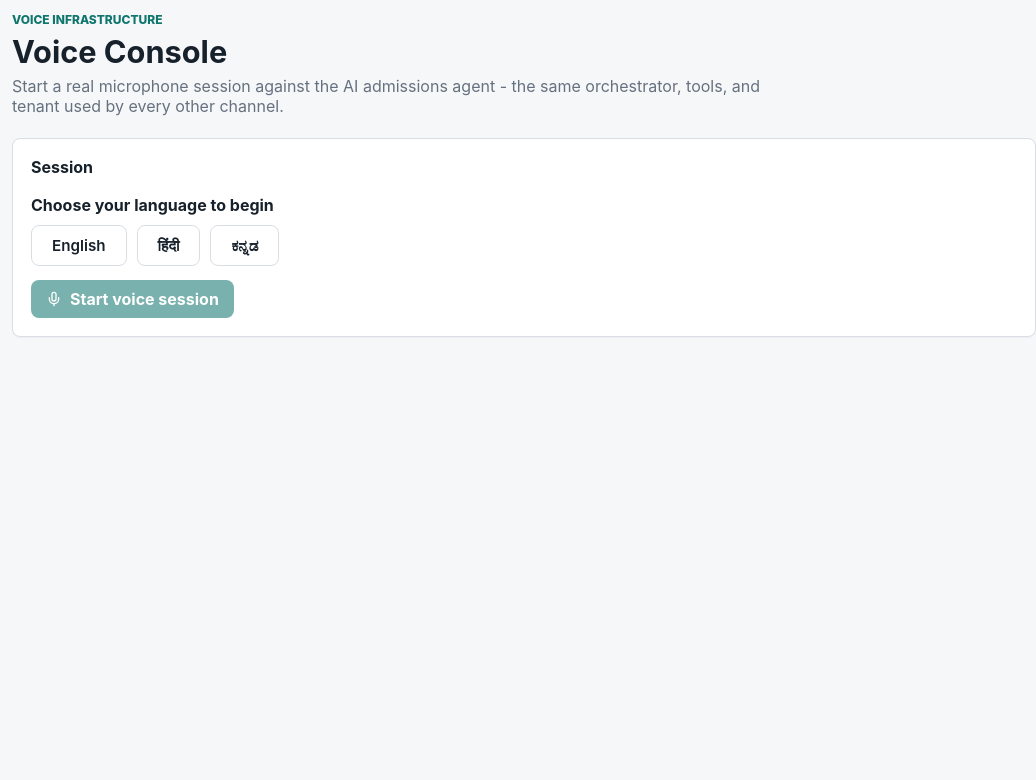
VoiceConsole - mock vs live labeling › labels a mock-provider session as MOCK
The image size is (1036, 780).
Click the radio button labelled "English" at (79, 246), box [31,225,127,266]
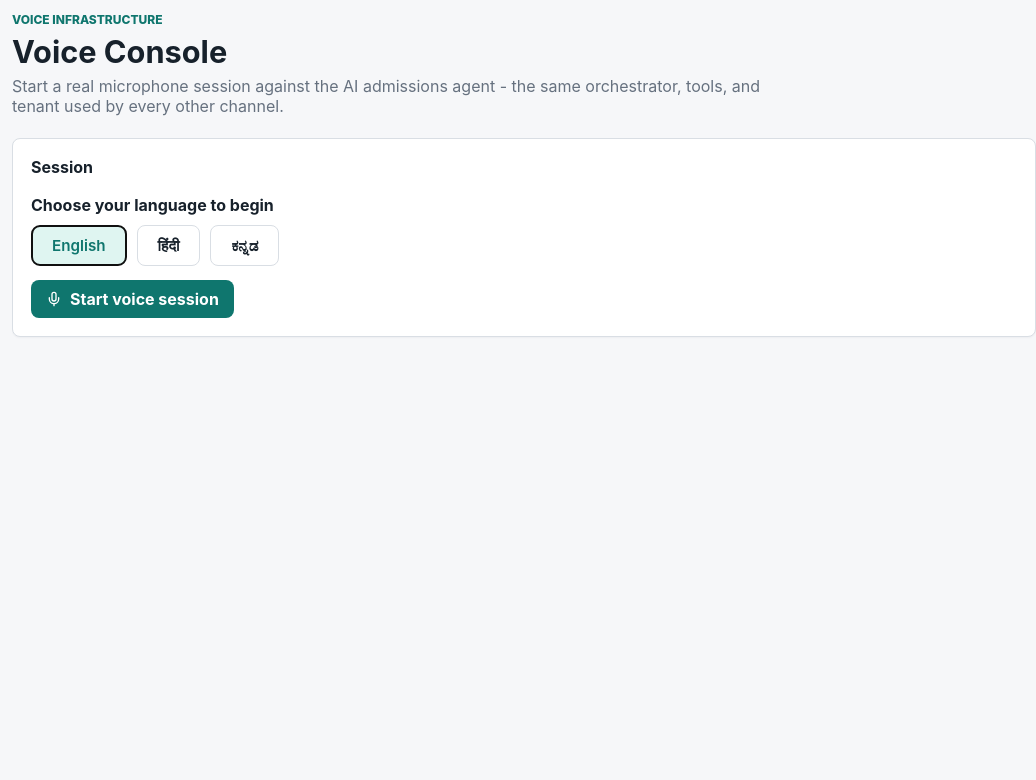
Check: the button "Start voice session" is enabled
Click the button "Start voice session" at (132, 299), box [31,280,234,318]
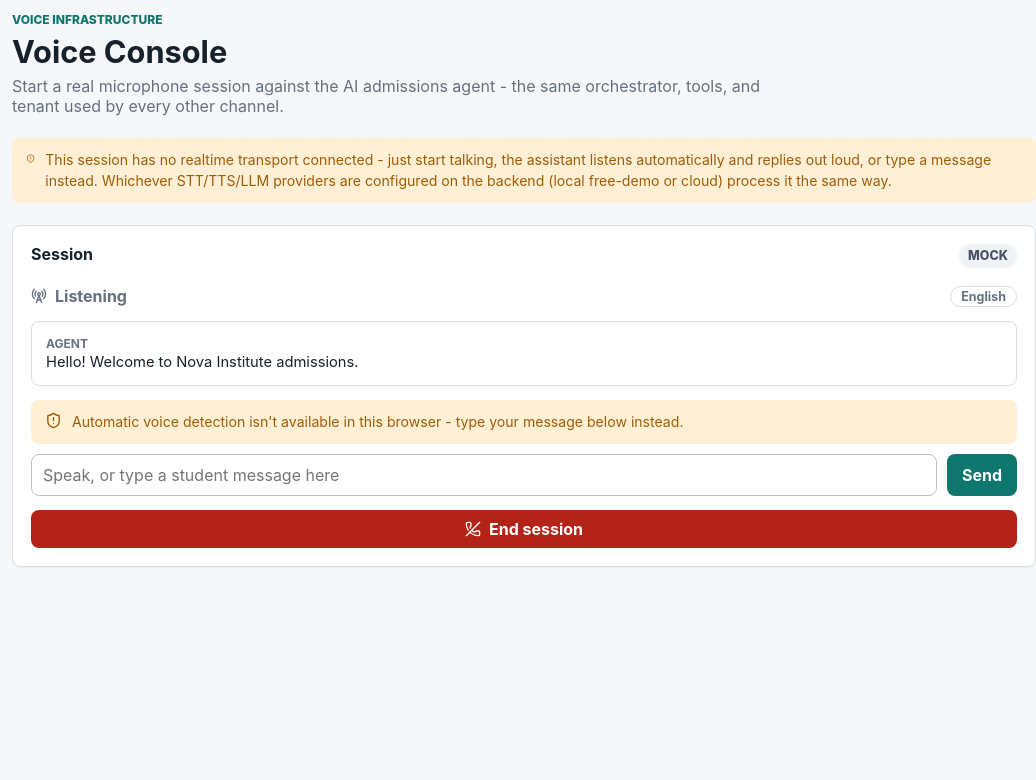
Check: the text "MOCK" is shown, box [959,244,1017,268]
Check: the text "no realtime transport connected" is shown, box [45,151,991,189]
